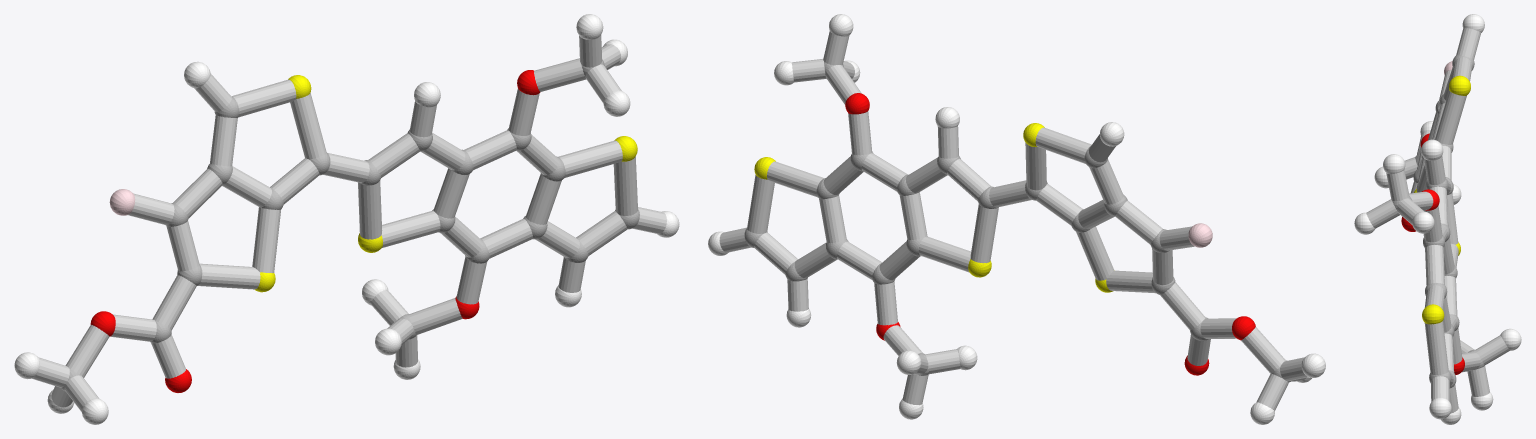
Rendered from Dimethoxy_Benzodithiophene_Phi_10_Theta_20_Methylcarbonyl_3_Fluoro_Thienothiophene.glb.
The picture shows the model from 3 angles, left to right: view 1: azimuth 30°, elevation 25°; view 2: azimuth 150°, elevation 25°; view 3: azimuth 270°, elevation 25°; orthographic projection. The views are drawn at different scales.
Visible parts, largest first — view 1: grp15205, grp8689, grp1, grp13395, grp7241; view 2: grp15205, grp8689, grp1, grp13395, grp7241; view 3: grp15205, grp8689, grp1, grp7241, grp13395.
Part boxes in pixels (x1,y1,x2,y2): grp15205: [32, 35, 666, 412]; grp8689: [14, 14, 679, 424]; grp1: [60, 59, 639, 391]; grp13395: [90, 70, 540, 392]; grp7241: [255, 75, 637, 292]; grp15205: [719, 31, 1308, 410]; grp8689: [708, 14, 1325, 424]; grp1: [744, 62, 1290, 382]; grp13395: [845, 93, 1255, 375]; grp7241: [754, 123, 1113, 292]; grp15205: [1366, 28, 1509, 413]; grp8689: [1354, 14, 1521, 424]; grp1: [1392, 55, 1484, 388]; grp7241: [1414, 75, 1470, 324]; grp13395: [1401, 133, 1464, 374].
Size of the model in its own units: 17.14 by 9.13 by 4.49.
